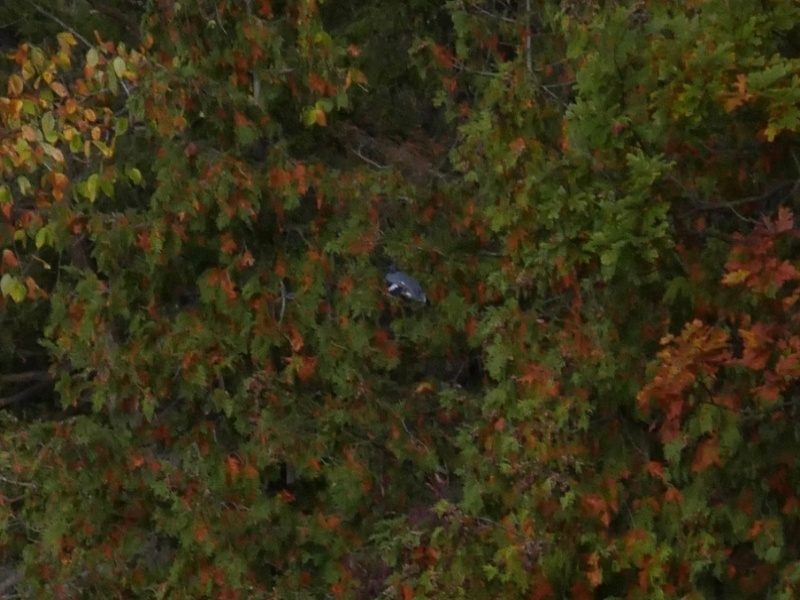kingfisher: (384, 265, 437, 310)
